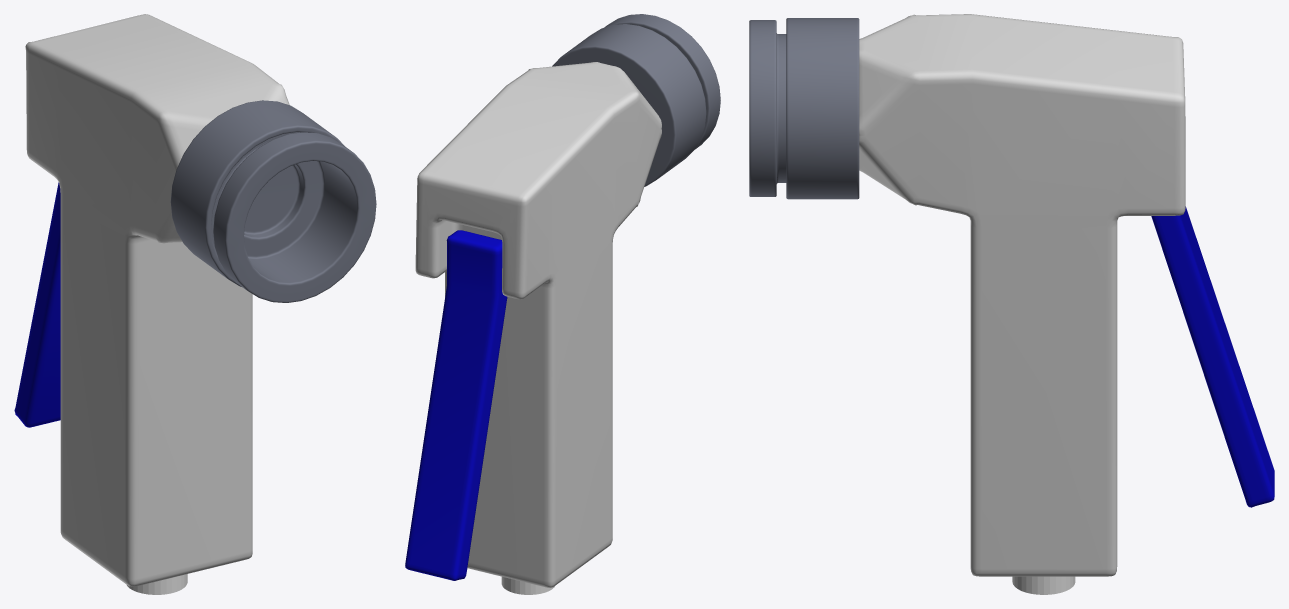
Rendered from NitrogenGun.fbx.
3 views of the same model, side by side, from view 1: azimuth 30°, elevation 25°; view 2: azimuth 150°, elevation 25°; view 3: azimuth 270°, elevation 25° (orthographic). The views are drawn at different scales.
Visible parts, largest first — view 1: nitrogen_gun, Cylinder, Cube.001, Cylinder.001; view 2: nitrogen_gun, Cube.001, Cylinder, Cylinder.001; view 3: nitrogen_gun, Cylinder, Cube.001, Cylinder.001.
Part boxes in pixels (left/top/right/bottom): nitrogen_gun: left=25, top=14, right=289, bottom=586; Cylinder: left=170, top=100, right=376, bottom=302; Cube.001: left=14, top=182, right=60, bottom=427; Cylinder.001: left=127, top=574, right=187, bottom=594; nitrogen_gun: left=415, top=62, right=661, bottom=587; Cube.001: left=405, top=230, right=507, bottom=580; Cylinder: left=552, top=14, right=720, bottom=186; Cylinder.001: left=501, top=576, right=554, bottom=594; nitrogen_gun: left=859, top=14, right=1185, bottom=576; Cylinder: left=749, top=18, right=859, bottom=199; Cube.001: left=1151, top=206, right=1274, bottom=507; Cylinder.001: left=1012, top=576, right=1075, bottom=594.
Size of the model in its own units: 4.95 by 16.72 by 14.34.
